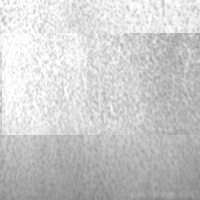pitted_surface: (5, 1, 199, 195), (2, 33, 200, 135)
